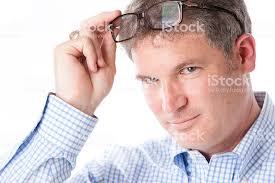white_male: (128, 19, 240, 155)
